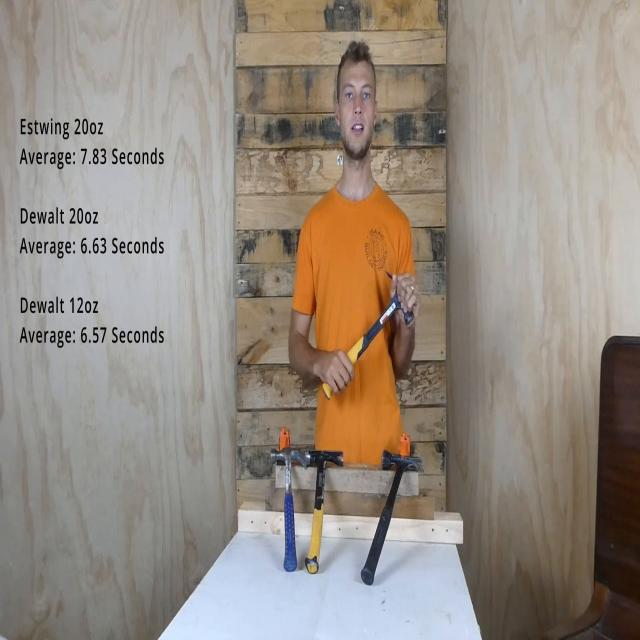hammer: (320, 266, 418, 402), (358, 446, 428, 587), (303, 444, 346, 578), (268, 444, 310, 574)
